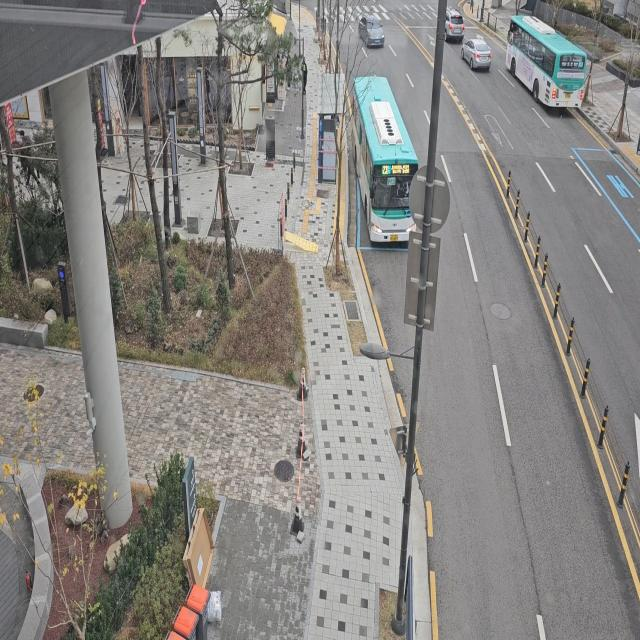Bus: (344, 64, 424, 252), (498, 13, 604, 114)
Car: (357, 8, 392, 55), (459, 36, 498, 74), (441, 5, 467, 45)
